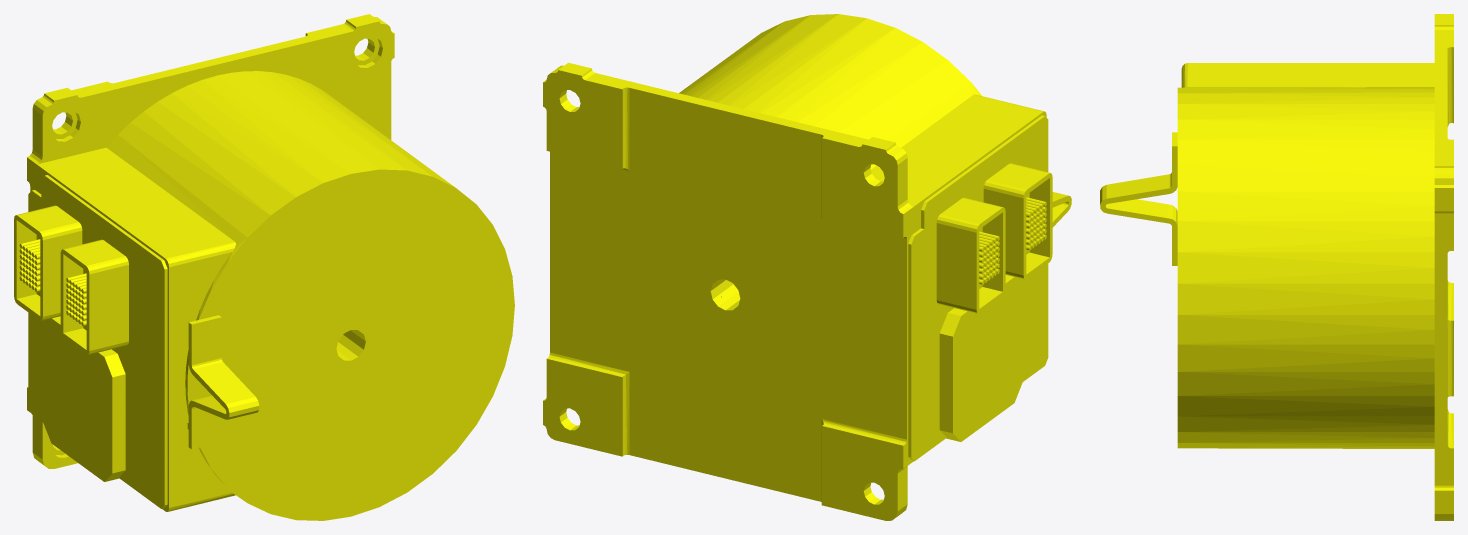
3 renders of one model, left to right at view 1: azimuth 30°, elevation 25°; view 2: azimuth 150°, elevation 25°; view 3: azimuth 270°, elevation 25°, orthographic. The views are drawn at different scales.
Parts seen in each view (by area): view 1: node; view 2: node; view 3: node.
Boxes of the visible parts, box(x1,y1,x2,y2) form: node: box(14, 14, 514, 520); node: box(543, 14, 1071, 520); node: box(1100, 14, 1453, 520).
Bounding box in the file's own units: 345 × 303 × 276.
